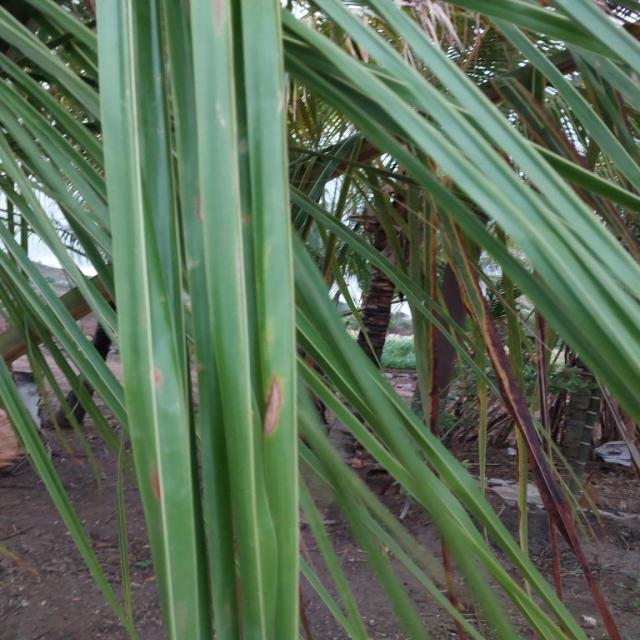gray leaf spot: (436, 208, 592, 574), (249, 349, 302, 480)
